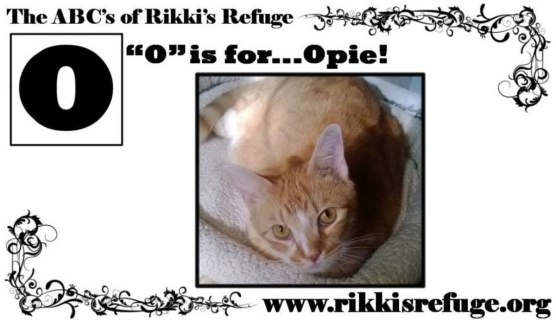Cat: (200, 78, 413, 278)
